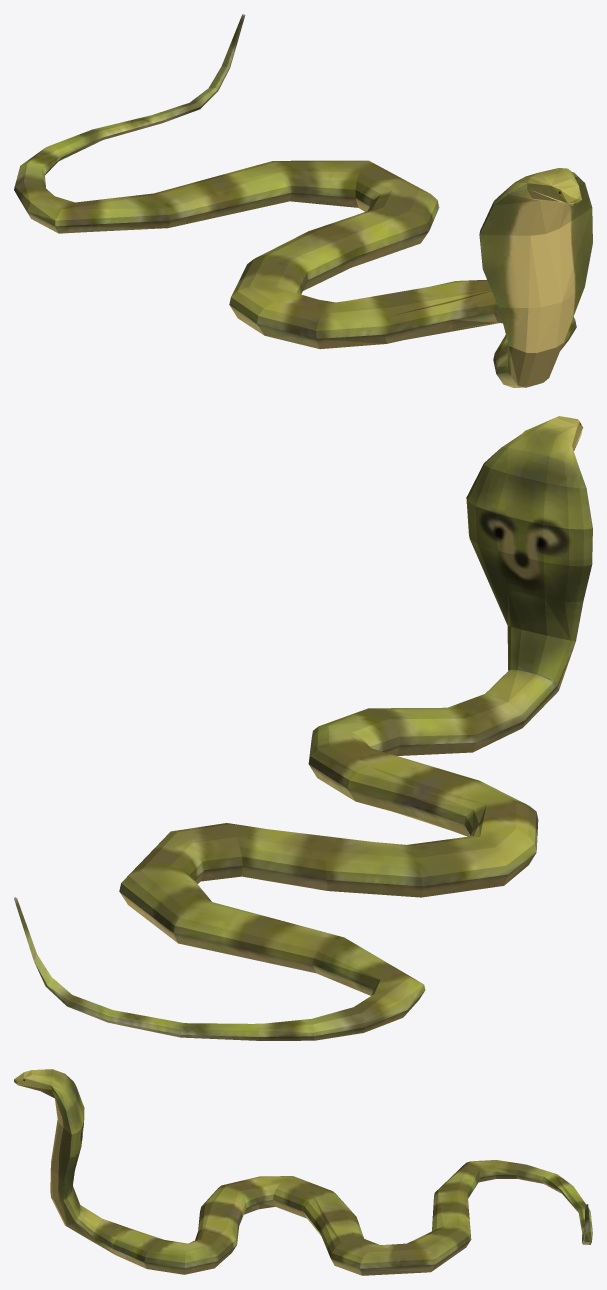
Rendered from animals-cobra-036.glb.
3 views of the same model, one above another, from view 1: azimuth 30°, elevation 25°; view 2: azimuth 150°, elevation 25°; view 3: azimuth 270°, elevation 25° (orthographic). The views are drawn at different scales.
Visible parts, largest first — view 1: Node; view 2: Node; view 3: Node.
Part boxes in pixels (x1,y1,x2,y2): Node: [14, 14, 592, 387]; Node: [14, 416, 592, 1040]; Node: [14, 1069, 592, 1275].
Bounding box in the file's own units: 7.22 × 5.48 × 16.82.
Materials: 3 (1 with a texture image).
